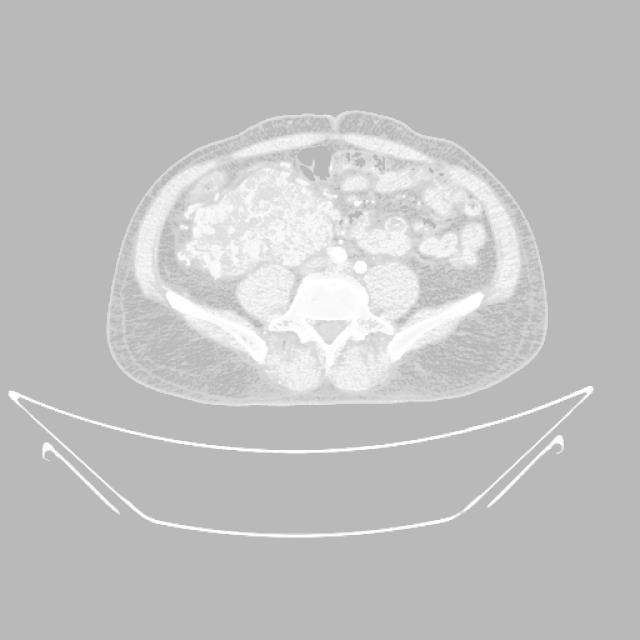TUMOR: (120, 150, 408, 258)
